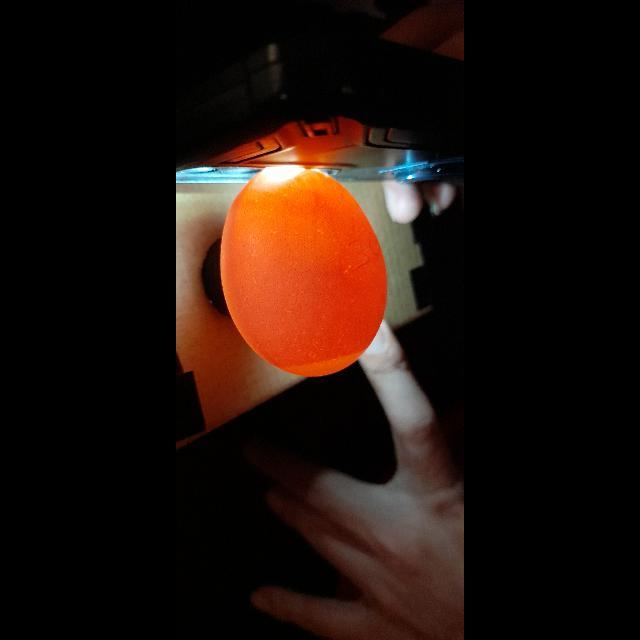Fertile: (219, 162, 389, 382)
